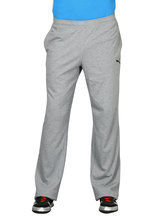clothoes: (30, 17, 127, 201)
